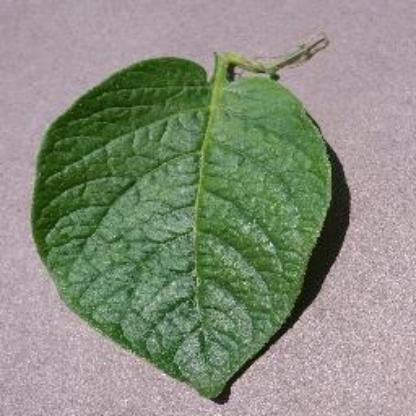Healthy-plant: (28, 41, 352, 403)
